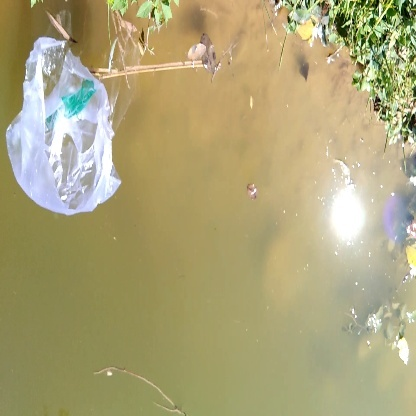plastic-bag: (5, 33, 124, 219)
